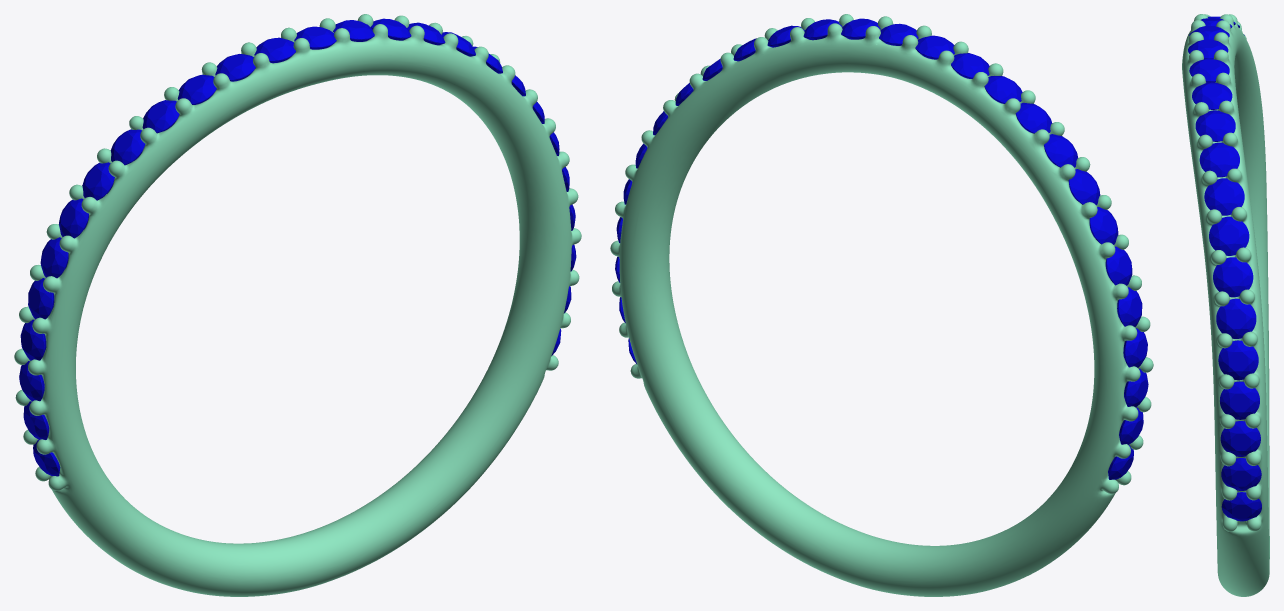
The picture shows the model from 3 angles, left to right: view 1: azimuth 30°, elevation 25°; view 2: azimuth 150°, elevation 25°; view 3: azimuth 270°, elevation 25°; orthographic projection. The views are drawn at different scales.
Visible parts, largest first — view 1: Metal03, Diamond_Band.019, Diamond_Band.018, Diamond_Band.017, Diamond_Band.020, Diamond_Band.021, Diamond_Band.016, Diamond_Band.022, Diamond_Band.015, Diamond_Band.023, Diamond_Band.014; view 2: Metal03, Diamond_Band.018, Diamond_Band.019, Diamond_Band.020, Diamond_Band.017, Diamond_Band.021, Diamond_Band.016, Diamond_Band.022, Diamond_Band.015; view 3: Metal03, Diamond_Band.005, Diamond_Band.006, Diamond_Band.004, Diamond_Band.007, Diamond_Band.003, Diamond_Band.008, Diamond_Band.002, Diamond_Band.009, Diamond_Band.001, Diamond_Band.010, Diamond_Band (+4 smaller).
Boxes of the visible parts, x1,y1,x2,y2 form: Metal03: [14, 14, 581, 596]; Diamond_Band.019: [82, 162, 114, 200]; Diamond_Band.018: [110, 129, 145, 165]; Diamond_Band.017: [142, 100, 179, 133]; Diamond_Band.020: [59, 198, 88, 238]; Diamond_Band.021: [40, 237, 68, 278]; Diamond_Band.016: [177, 74, 216, 104]; Diamond_Band.022: [28, 278, 54, 319]; Diamond_Band.015: [215, 54, 255, 81]; Diamond_Band.023: [20, 319, 46, 360]; Diamond_Band.014: [254, 37, 295, 63]; Metal03: [610, 14, 1153, 596]; Diamond_Band.018: [1044, 134, 1077, 167]; Diamond_Band.019: [1068, 169, 1100, 205]; Diamond_Band.020: [1089, 207, 1118, 244]; Diamond_Band.017: [1015, 102, 1052, 133]; Diamond_Band.021: [1105, 246, 1132, 285]; Diamond_Band.016: [984, 76, 1022, 103]; Diamond_Band.022: [1117, 287, 1142, 326]; Diamond_Band.015: [951, 53, 989, 78]; Metal03: [1182, 14, 1269, 596]; Diamond_Band.005: [1216, 298, 1256, 338]; Diamond_Band.006: [1213, 257, 1253, 297]; Diamond_Band.004: [1218, 340, 1258, 380]; Diamond_Band.007: [1209, 216, 1249, 255]; Diamond_Band.003: [1220, 381, 1259, 419]; Diamond_Band.008: [1204, 178, 1244, 215]; Diamond_Band.002: [1220, 421, 1260, 456]; Diamond_Band.009: [1199, 142, 1239, 177]; Diamond_Band.001: [1221, 458, 1261, 490]; Diamond_Band.010: [1195, 110, 1235, 141]; Diamond_Band: [1221, 492, 1261, 521].
Size of the model in its own units: 21.14 by 20.98 by 3.16.
